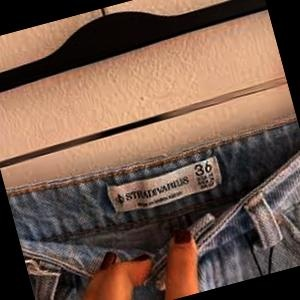stradivarius: (141, 84, 244, 253)
